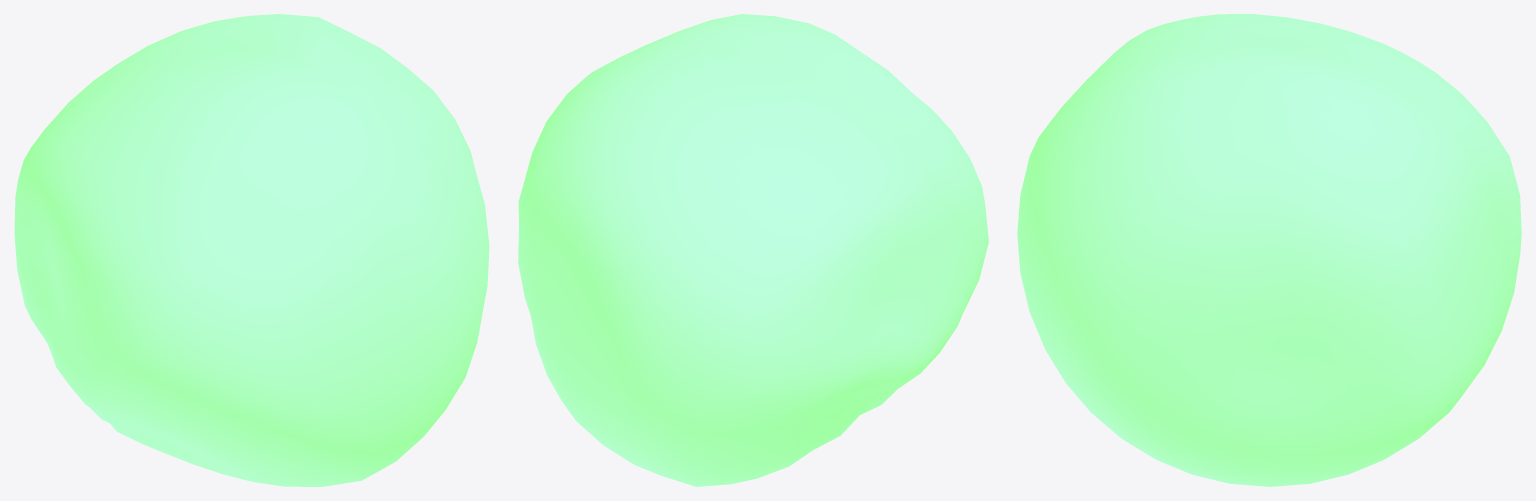
Rendered from eidos_anim.glb.
The picture shows the model from 3 angles, left to right: view 1: azimuth 30°, elevation 25°; view 2: azimuth 150°, elevation 25°; view 3: azimuth 270°, elevation 25°; orthographic projection. The views are drawn at different scales.
Visible parts, largest first — view 1: Icosphere.001; view 2: Icosphere.001; view 3: Icosphere.001.
Boxes of the visible parts, <box> form: Icosphere.001: <box>14,14,489,486</box>; Icosphere.001: <box>518,14,988,486</box>; Icosphere.001: <box>1017,14,1521,486</box>.
Size of the model in its own units: 2.01 by 2.16 by 2.29.
